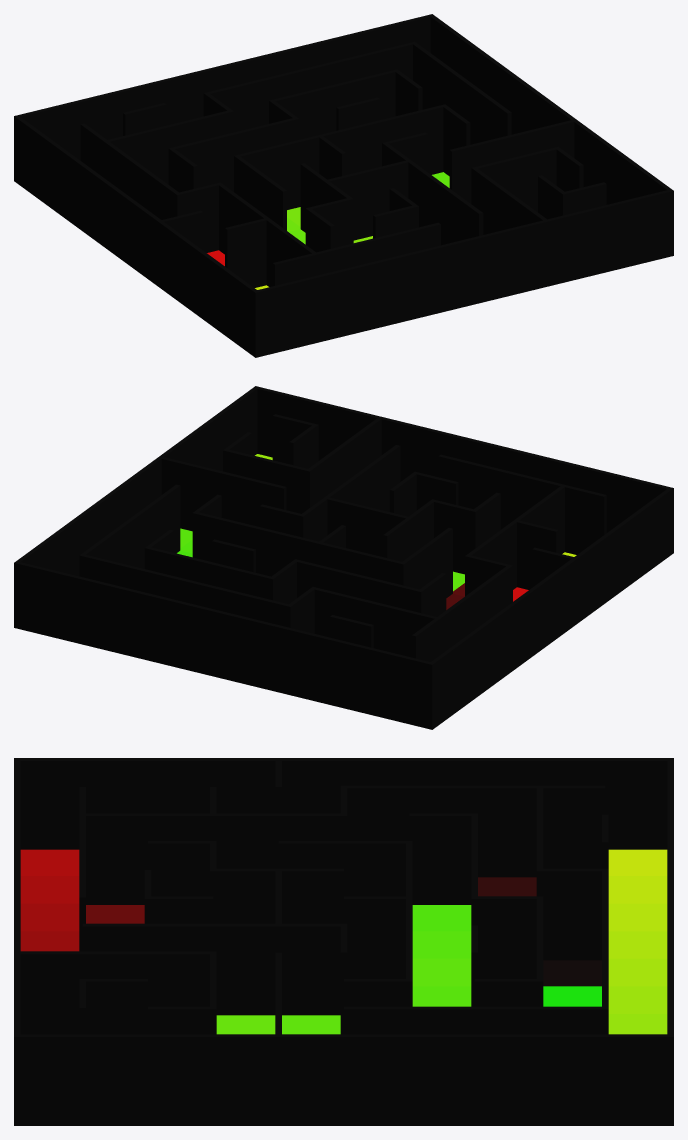
Rendered from Basement(New).fbx.
3 renders of one model, top to bottom at view 1: azimuth 30°, elevation 25°; view 2: azimuth 150°, elevation 25°; view 3: azimuth 270°, elevation 25°, orthographic. The views are drawn at different scales.
Parts seen in each view (by area): view 1: MG_Walls, MG_Cells; view 2: MG_Walls, MG_Cells; view 3: MG_Walls, MG_Cells.
Part boxes in pixels (box(x1,y1,x2,y2)): MG_Walls: box(14, 14, 673, 357); MG_Cells: box(207, 172, 449, 289); MG_Walls: box(14, 386, 673, 729); MG_Cells: box(177, 454, 576, 609); MG_Walls: box(14, 758, 673, 1125); MG_Cells: box(20, 849, 667, 1034).
Bounding box in the file's own units: 1010 × 150 × 1010.
